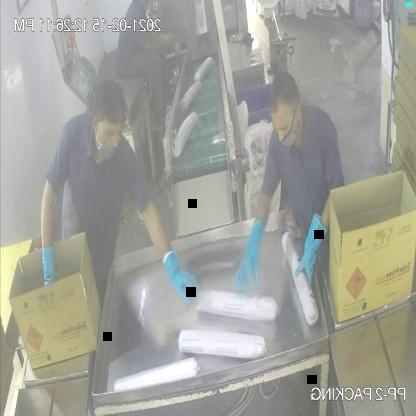glove: (292, 205, 327, 302), (231, 213, 271, 297), (162, 233, 204, 307), (31, 237, 57, 300)
no_glove: (138, 30, 178, 57)
